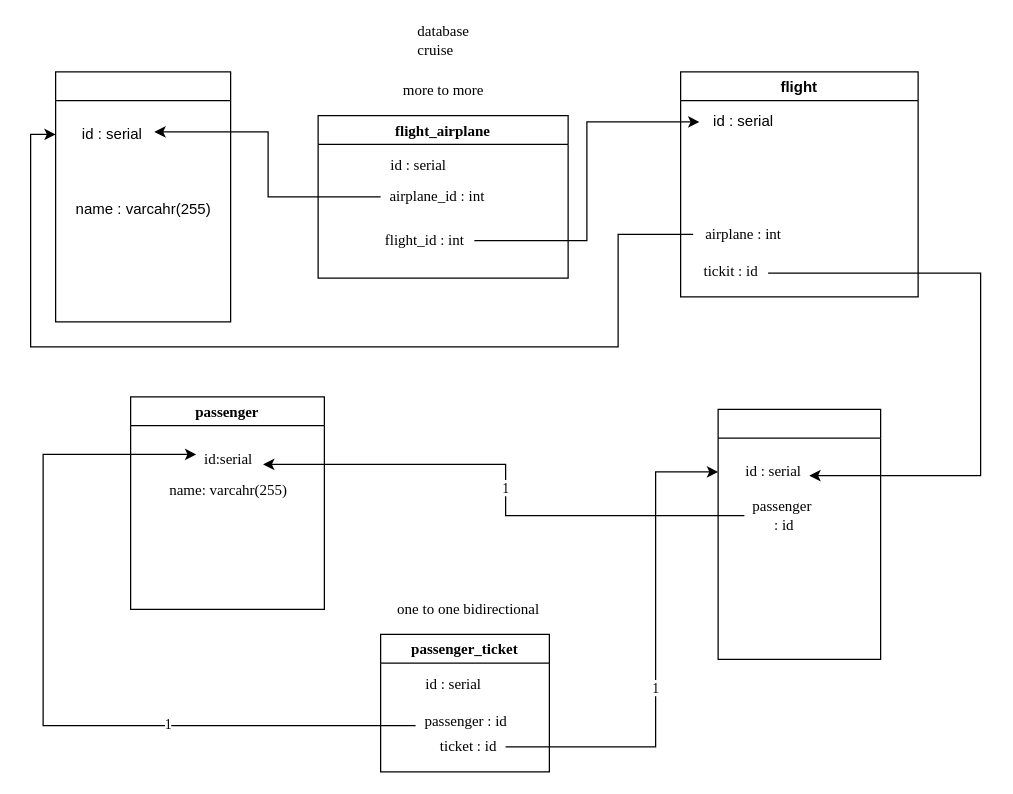
This 1013x794 diagram has some shape labels left out. The shapes that lost their labels are listed below. From the top down, each one's box as (x1, y1, x2, y2) in pixels, then its label:
(54, 71, 231, 322): airplane
(717, 408, 881, 659): ticket
